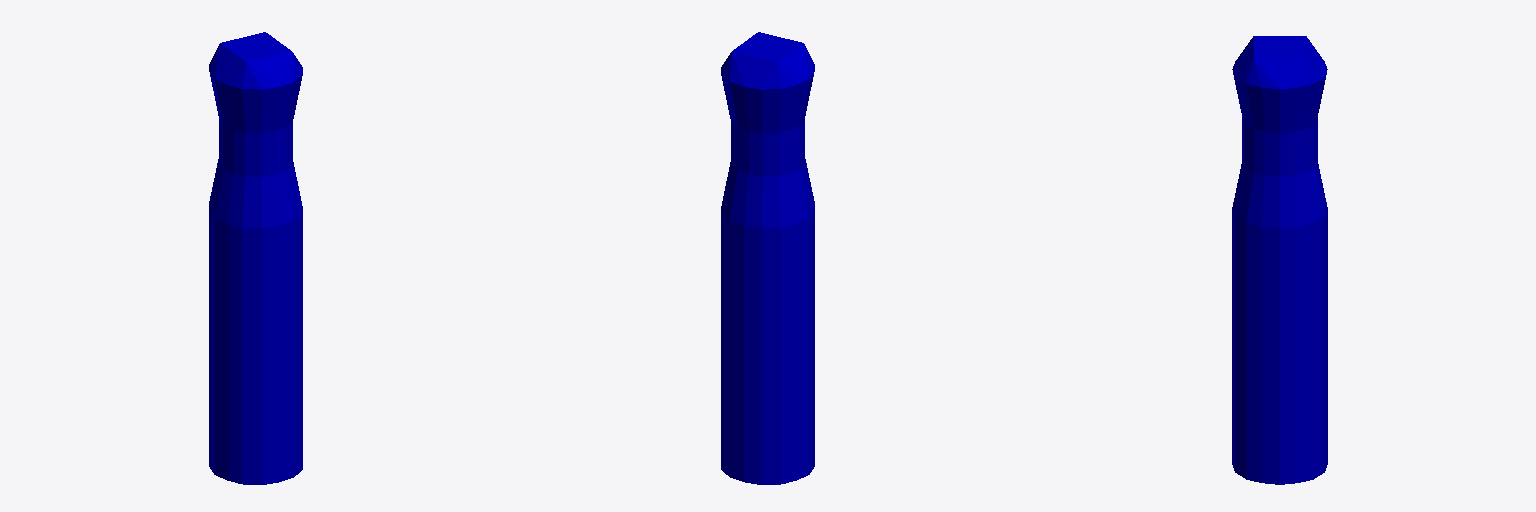
File: basic.obj
3 views of the same model, side by side, from view 1: azimuth 30°, elevation 25°; view 2: azimuth 150°, elevation 25°; view 3: azimuth 270°, elevation 25° (orthographic).
Bounding box in the file's own units: 2 × 9.66 × 2.